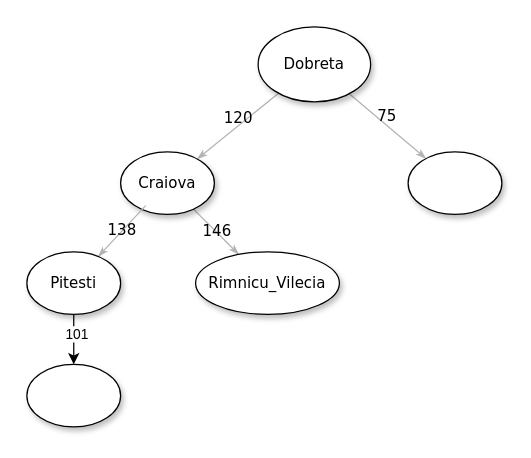
The diagram is 531 pixels wide and 458 high, and some of its shapes have lost their labels. Here are the shapes that lost their labels. From the top down, the centre of each, then its label:
point 455,184: Mehadia
point 74,397: Bucharest
